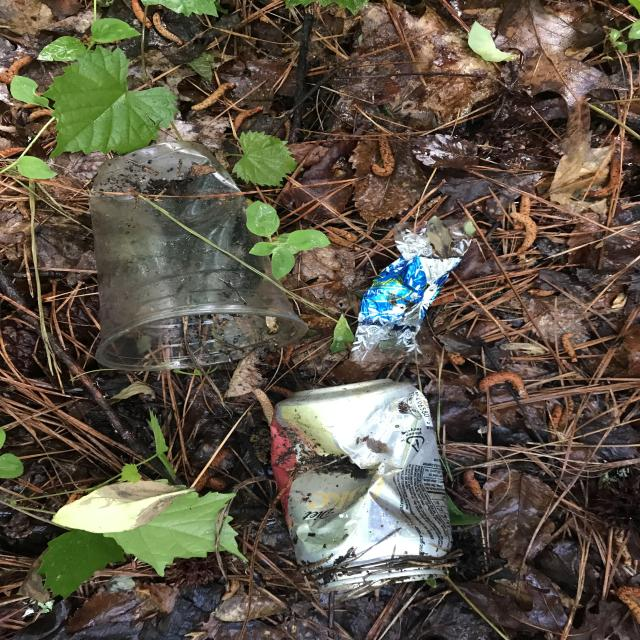litter: (88, 144, 301, 367), (273, 384, 452, 596)
